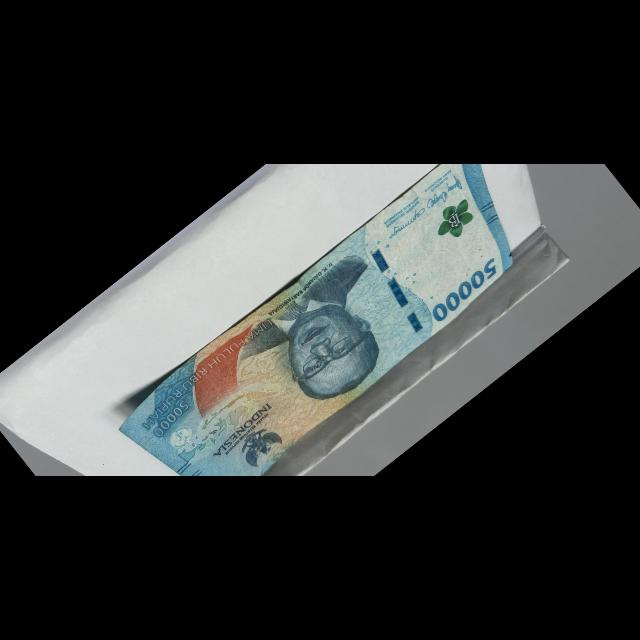Palsu-50k: (98, 157, 528, 538)
Tinta-Palsu-50k: (426, 193, 483, 247)
